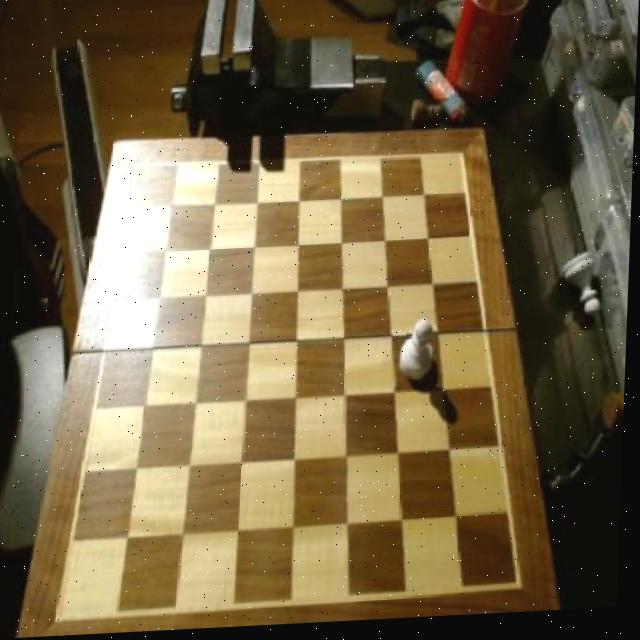white-knight: (393, 314, 441, 392)
